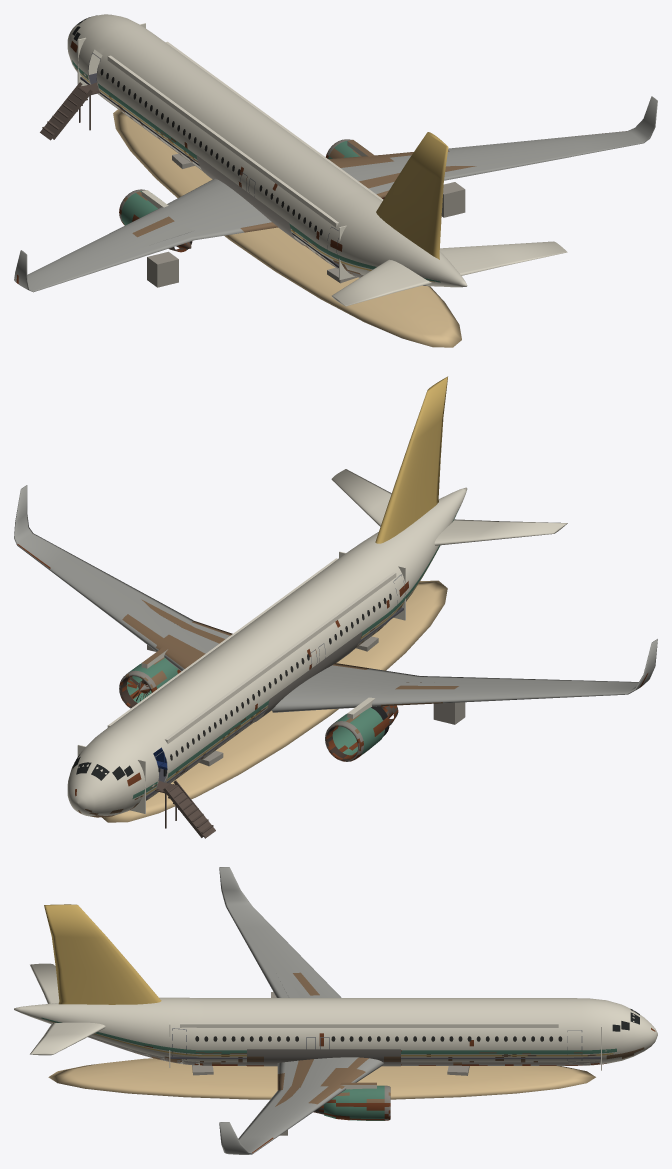
The model's file is rep_epave_avion.glb.
3 views of the same model, one above another, from view 1: azimuth 30°, elevation 25°; view 2: azimuth 150°, elevation 25°; view 3: azimuth 270°, elevation 25° (orthographic). The views are drawn at different scales.
Parts seen in each view (by area): view 1: avion_fuselage, sable_epave, avion_aile_G, avion_aile_D, avion_derive, avion_cabine, avion_stabilisateur_D, avion_stabilisateur_G, avion_livree, avion_nacelle_G, avion_karman_G, cale_aile_-1 (+4 smaller); view 2: avion_fuselage, avion_aile_G, sable_epave, avion_aile_D, avion_derive, avion_cabine, avion_nacelle_G, avion_stabilisateur_G, avion_nacelle_D, avion_stabilisateur_D, avion_livree, avion_hublots (+1 smaller); view 3: avion_fuselage, sable_epave, avion_derive, avion_aile_D, avion_aile_G, avion_livree, avion_cabine, avion_karman_D, avion_nacelle_D, avion_stabilisateur_D, avion_ventre, avion_hublots (+2 smaller).
Boxes of the visible parts, bbox=[...] form: avion_fuselage: bbox=[67, 14, 467, 287]; sable_epave: bbox=[113, 109, 461, 347]; avion_aile_G: bbox=[14, 178, 278, 292]; avion_aile_D: bbox=[328, 96, 657, 197]; avion_derive: bbox=[376, 132, 448, 259]; avion_cabine: bbox=[77, 23, 383, 280]; avion_stabilisateur_D: bbox=[439, 241, 567, 275]; avion_stabilisateur_G: bbox=[331, 259, 431, 306]; avion_livree: bbox=[72, 60, 440, 282]; avion_nacelle_G: bbox=[119, 189, 192, 252]; avion_karman_G: bbox=[196, 155, 304, 245]; cale_aile_-1: bbox=[147, 251, 178, 287]; avion_fuselage: bbox=[67, 487, 467, 817]; avion_aile_G: bbox=[272, 639, 657, 712]; sable_epave: bbox=[102, 580, 447, 822]; avion_aile_D: bbox=[14, 485, 232, 671]; avion_derive: bbox=[375, 376, 447, 543]; avion_cabine: bbox=[77, 551, 405, 813]; avion_nacelle_G: bbox=[325, 697, 398, 761]; avion_stabilisateur_G: bbox=[434, 519, 567, 545]; avion_nacelle_D: bbox=[119, 647, 177, 708]; avion_stabilisateur_D: bbox=[331, 469, 391, 526]; avion_livree: bbox=[132, 509, 458, 799]; avion_hublots: bbox=[72, 593, 391, 780]; avion_fuselage: bbox=[14, 997, 657, 1065]; sable_epave: bbox=[48, 1058, 595, 1099]; avion_derive: bbox=[44, 904, 161, 1004]; avion_aile_D: bbox=[219, 1057, 383, 1154]; avion_aile_G: bbox=[219, 867, 341, 997]; avion_livree: bbox=[41, 1017, 616, 1056]; avion_cabine: bbox=[169, 1021, 601, 1070]; avion_karman_D: bbox=[247, 1049, 400, 1066]; avion_nacelle_D: bbox=[313, 1082, 390, 1120]; avion_stabilisateur_D: bbox=[30, 1022, 105, 1055]; avion_ventre: bbox=[88, 1036, 599, 1065]; avion_hublots: bbox=[195, 1009, 639, 1041].
Size of the model in its own units: 35.3 by 11.11 by 37.6.
